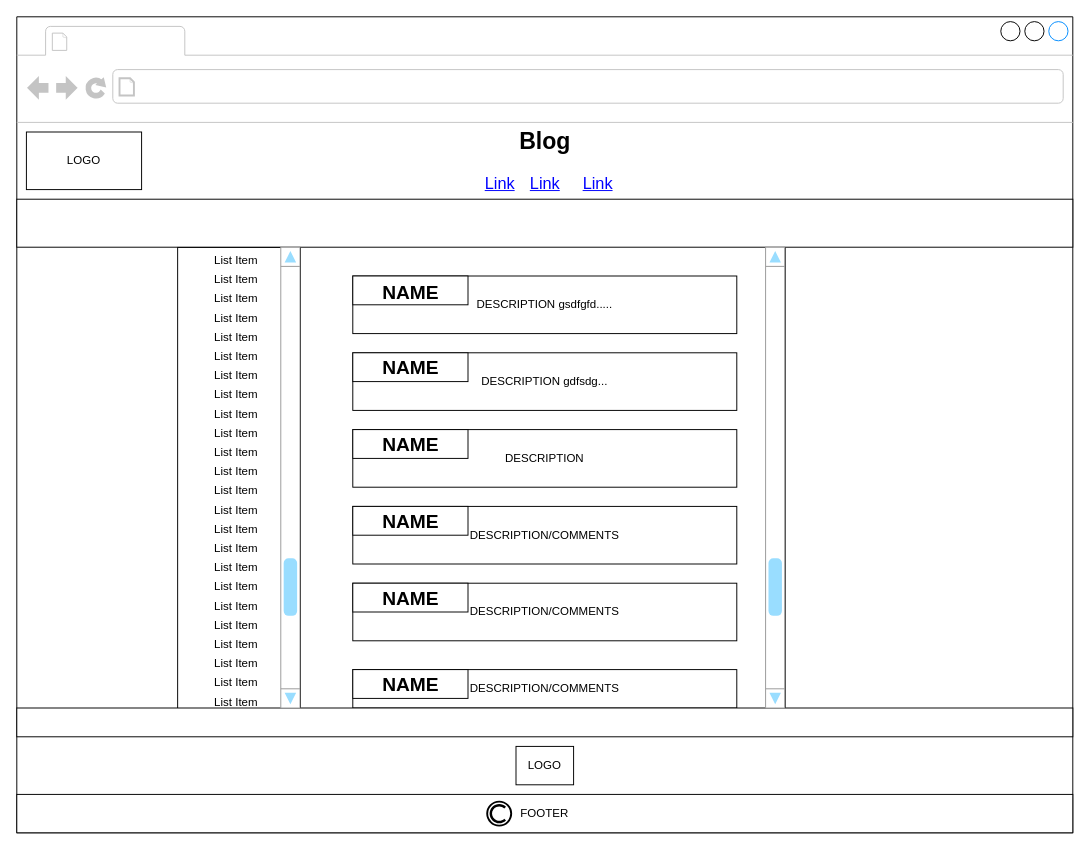
This 1090x850 diagram has some shape labels left out. The shapes that lost their labels are listed below. From the top down, each one's centre as x and y in pixels, then its label:
pixel 126 40: Page 1
pixel 261 86: https://www.draw.io
pixel 544 222: BANNER/ COOL PIC
pixel 544 722: DISCLAIMER
